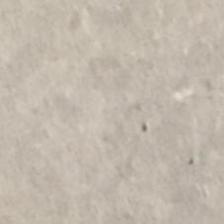Non_Crack: (27, 27, 207, 172)
